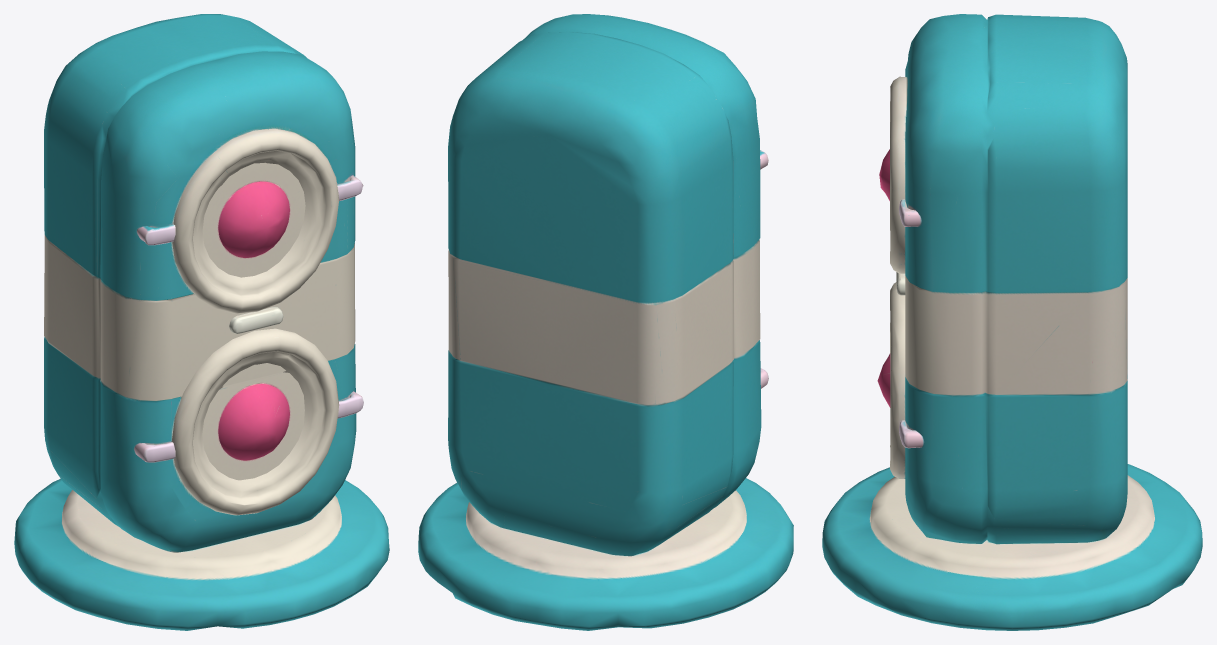
File: speaker.glb
3 renders of one model, left to right at view 1: azimuth 30°, elevation 25°; view 2: azimuth 150°, elevation 25°; view 3: azimuth 270°, elevation 25°, orthographic.
Bounding box in the file's own units: 0.6353 × 0.9517 × 0.6353.
1 material, 1 textured.
